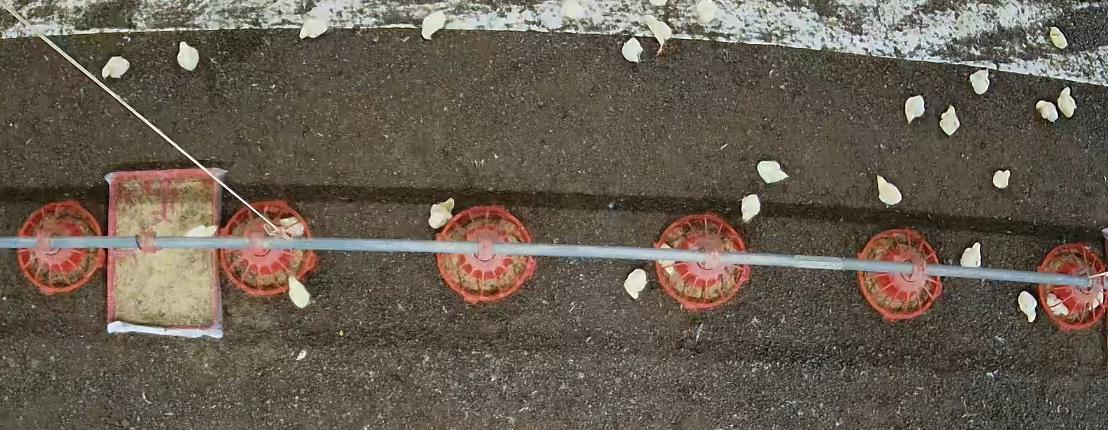chick: (642, 15, 673, 57), (620, 269, 648, 302), (287, 272, 311, 309), (421, 10, 448, 42), (428, 197, 455, 228), (102, 54, 131, 81), (757, 160, 788, 185), (175, 41, 200, 71), (1057, 85, 1078, 119), (939, 104, 960, 137), (618, 38, 643, 64), (184, 222, 220, 240), (278, 215, 307, 237), (656, 244, 677, 274), (695, 0, 719, 26), (960, 241, 982, 269), (741, 193, 762, 221), (300, 18, 328, 38), (905, 95, 925, 123), (1019, 291, 1037, 322), (1035, 100, 1059, 122), (1046, 292, 1068, 316), (970, 69, 990, 95), (1050, 25, 1069, 50), (992, 168, 1012, 188), (1090, 288, 1105, 309)
rice: (107, 167, 225, 338), (220, 198, 317, 295), (438, 204, 535, 301), (655, 212, 752, 307), (18, 200, 105, 294), (859, 228, 942, 320)
